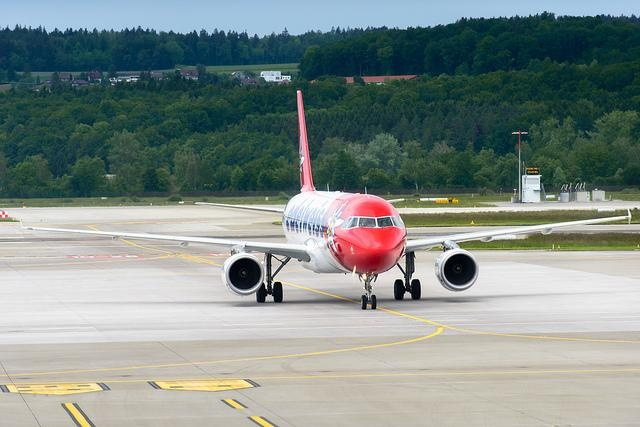airplane: (8, 86, 640, 311)
